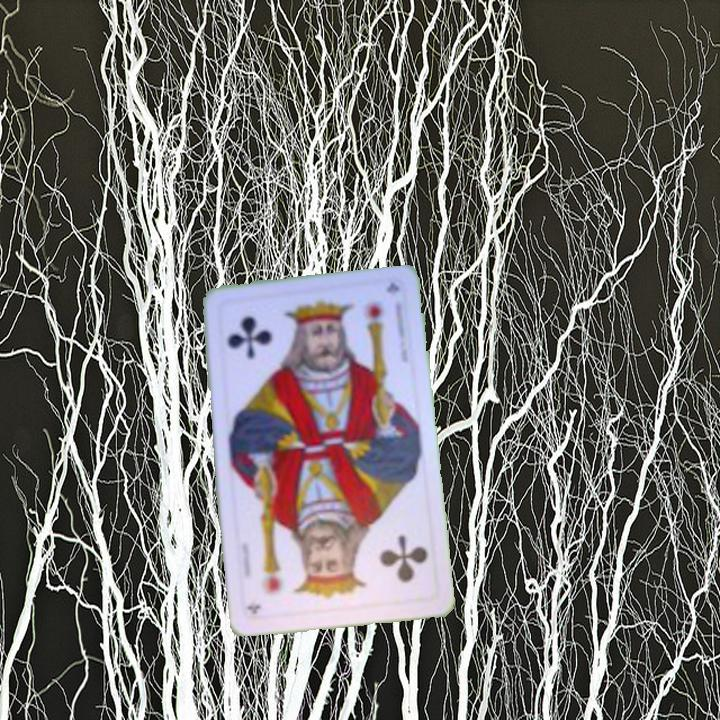c_k.png: (330, 515, 438, 611), (212, 291, 320, 386)
